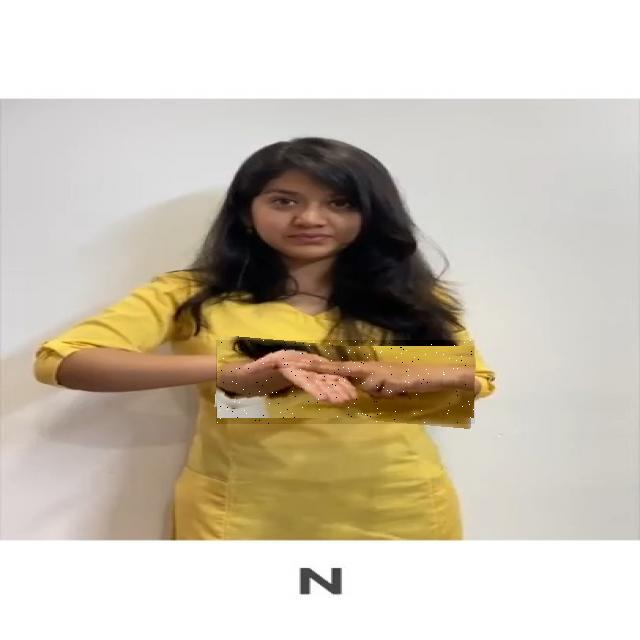N: (216, 340, 475, 424)
